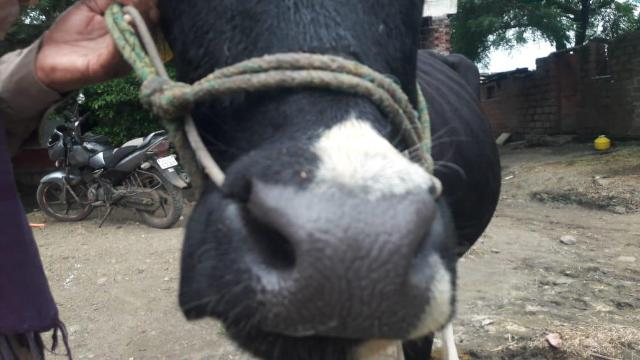Muzzle: (285, 190, 421, 334)
